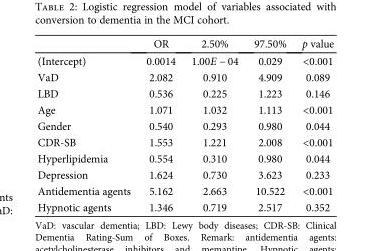table: (36, 36, 333, 212)
table column: (36, 36, 137, 212), (182, 36, 245, 212), (245, 36, 293, 212), (137, 36, 182, 212), (293, 36, 333, 212)
table column header: (36, 36, 333, 50)
table row: (36, 50, 333, 69), (36, 99, 333, 118), (36, 132, 333, 150), (36, 181, 333, 199), (36, 150, 333, 166), (36, 69, 333, 84), (36, 84, 333, 99), (36, 166, 333, 181), (36, 36, 333, 50), (36, 118, 333, 132), (36, 199, 333, 212)
